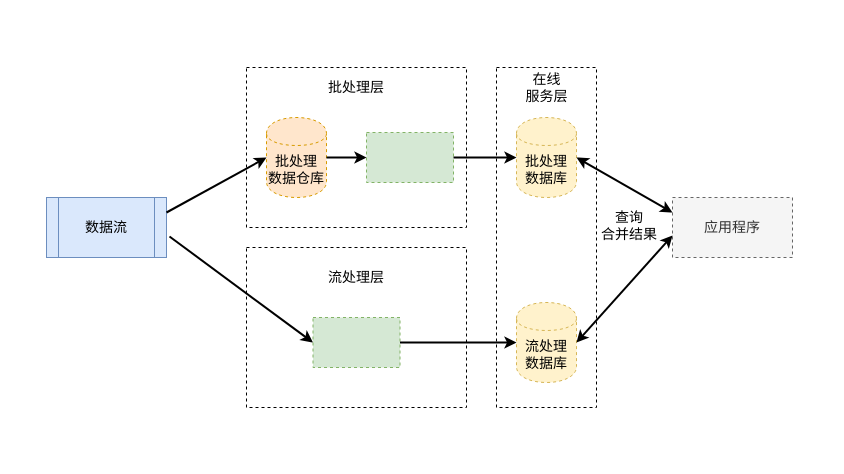
Some shapes in this 844 by 474 pixel diagram are drawn without their labels. Here are the shapes that lost their labels. From the top down, the centre of each, then its label:
At point (410, 157): "批处理引擎".
At point (356, 342): "流处理引擎".
